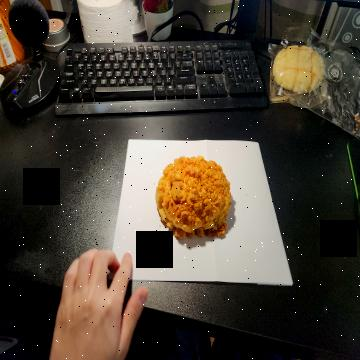soboru_bread: (154, 154, 233, 246)
